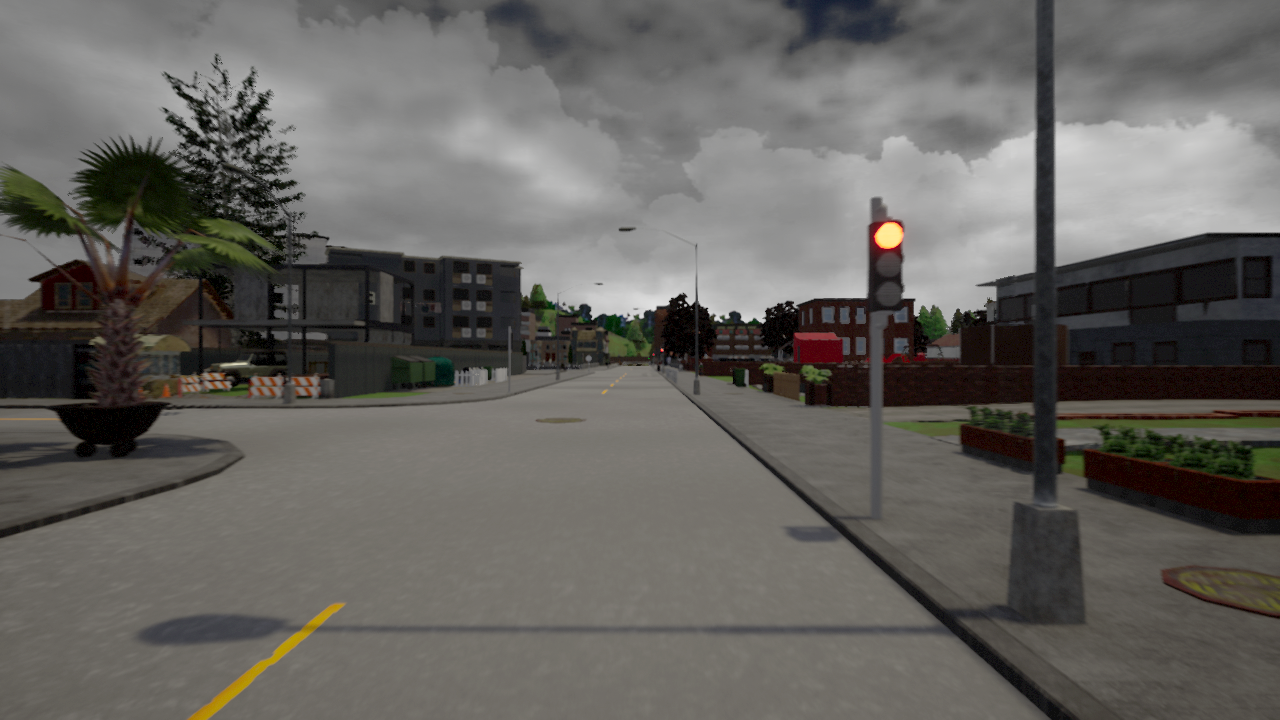red: (866, 217, 908, 313)
